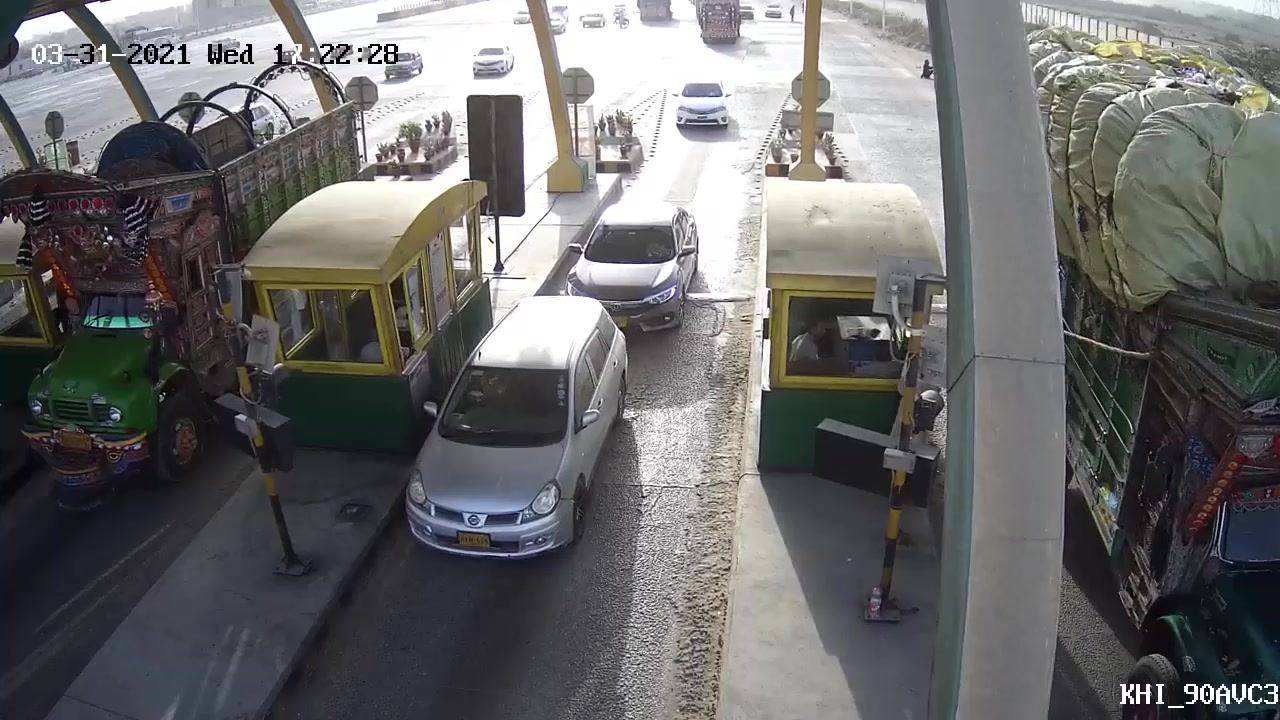F1: (397, 289, 637, 568), (550, 196, 705, 335)
